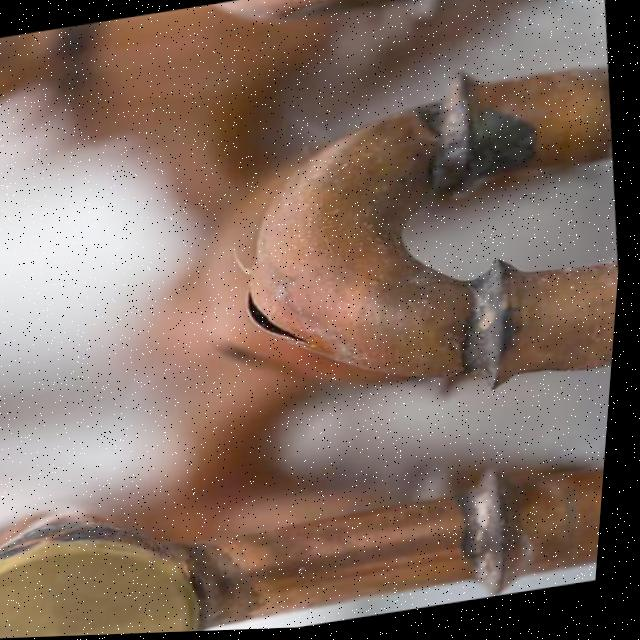crack: (243, 281, 322, 355)
